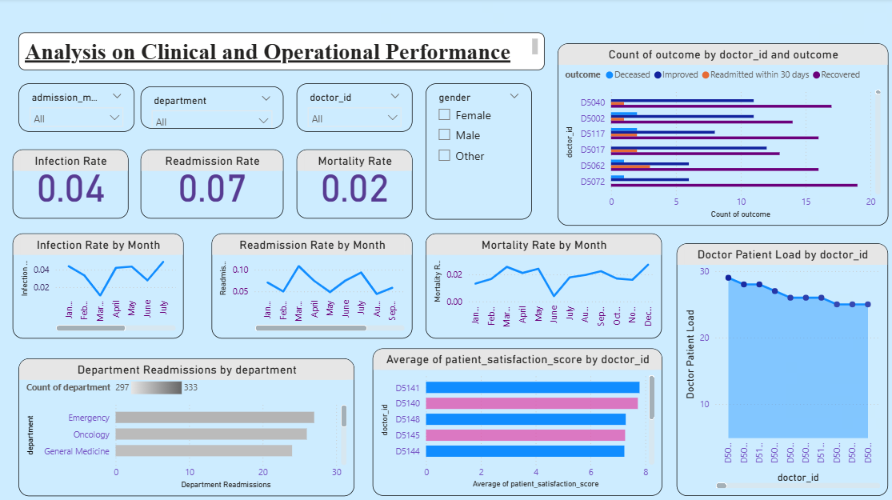

What the dashboard file says about the page in this screenshot:
{"tool":"powerbi","page":{"name":"clinical and operational performance","canvas":[1280,720],"ordinal":1},"visuals":[{"type":"card","title":"Infection Rate","fields":{"Values":["healthcare_capstone_2500.Infection Rate"]},"box":[22,215.4,164.7,98.8],"z":0},{"type":"card","title":"Readmission Rate","fields":{"Values":["healthcare_capstone_2500.Readmission Rate"]},"box":[203.1,215.4,203.1,98.8],"z":1000},{"type":"card","title":"Mortality Rate","fields":{"Values":["healthcare_capstone_2500.Mortality Rate"]},"box":[425.4,215.4,164.7,98.8],"z":2000},{"type":"lineChart","fields":{"Category":["healthcare_capstone_2500.admission_month.Variation.Date Hierarchy.Month"],"Y":["healthcare_capstone_2500.Infection Rate"]},"box":[22,334.8,242.9,149.6],"z":3000},{"type":"lineChart","fields":{"Category":["healthcare_capstone_2500.admission_month.Variation.Date Hierarchy.Month"],"Y":["healthcare_capstone_2500.Readmission Rate"]},"box":[304.6,334.8,285.4,149.6],"z":4000},{"type":"lineChart","fields":{"Category":["healthcare_capstone_2500.admission_month.Variation.Date Hierarchy.Month"],"Y":["healthcare_capstone_2500.Mortality Rate"]},"box":[609.3,334.8,336.2,149.6],"z":5000},{"type":"areaChart","fields":{"Category":["healthcare_capstone_2500.doctor_id"],"Y":["healthcare_capstone_2500.Doctor Patient Load"]},"box":[966,348.5,300.5,359.5],"z":6000},{"type":"clusteredBarChart","fields":{"Category":["healthcare_capstone_2500.doctor_id"],"Series":["healthcare_capstone_2500.outcome"],"Y":["CountNonNull(healthcare_capstone_2500.outcome)"]},"box":[795.9,64.5,470.7,259.3],"z":7000},{"type":"clusteredBarChart","fields":{"Category":["healthcare_capstone_2500.doctor_id"],"Y":["Avg(healthcare_capstone_2500.patient_satisfaction_score)"]},"box":[533.8,498.1,411.7,209.9],"z":8000},{"type":"clusteredBarChart","fields":{"Category":["healthcare_capstone_2500.department"],"Y":["healthcare_capstone_2500.Department Readmissions"]},"box":[30.2,511.8,477.5,196.2],"z":9000},{"type":"slicer","fields":{"Values":["healthcare_capstone_2500.admission_month"]},"box":[30.2,120.8,164.7,68.6],"z":10000},{"type":"slicer","fields":{"Values":["healthcare_capstone_2500.department"]},"box":[203.1,124.9,203.1,60.4],"z":11000},{"type":"slicer","fields":{"Values":["healthcare_capstone_2500.doctor_id"]},"box":[425.4,120.8,164.7,68.6],"z":12000},{"type":"slicer","fields":{"Values":["healthcare_capstone_2500.gender"]},"box":[609.3,120.8,150.9,193.5],"z":13000},{"type":"textbox","box":[30.2,48,747.9,53.5],"z":14000}]}

Visuals, with their boxes in screenshot pixels (x1, y1, x2, y2), scaled from the page's 1280x720 canvas onto the 892x500 screenshot:
"Infection Rate" card: region(15, 150, 130, 218)
"Readmission Rate" card: region(142, 150, 283, 218)
"Mortality Rate" card: region(296, 150, 411, 218)
lineChart - healthcare_capstone_2500.admission_month.Variation.Date Hierarchy.Month x healthcare_capstone_2500.Infection Rate: region(15, 232, 185, 336)
lineChart - healthcare_capstone_2500.admission_month.Variation.Date Hierarchy.Month x healthcare_capstone_2500.Readmission Rate: region(212, 232, 411, 336)
lineChart - healthcare_capstone_2500.admission_month.Variation.Date Hierarchy.Month x healthcare_capstone_2500.Mortality Rate: region(425, 232, 659, 336)
areaChart - healthcare_capstone_2500.doctor_id x healthcare_capstone_2500.Doctor Patient Load: region(673, 242, 883, 492)
clusteredBarChart - healthcare_capstone_2500.doctor_id x healthcare_capstone_2500.outcome: region(555, 45, 883, 225)
clusteredBarChart - healthcare_capstone_2500.doctor_id x Avg(healthcare_capstone_2500.patient_satisfaction_score): region(372, 346, 659, 492)
clusteredBarChart - healthcare_capstone_2500.department x healthcare_capstone_2500.Department Readmissions: region(21, 355, 354, 492)
slicer - healthcare_capstone_2500.admission_month: region(21, 84, 136, 132)
slicer - healthcare_capstone_2500.department: region(142, 87, 283, 129)
slicer - healthcare_capstone_2500.doctor_id: region(296, 84, 411, 132)
slicer - healthcare_capstone_2500.gender: region(425, 84, 530, 218)
textbox: region(21, 33, 542, 70)
